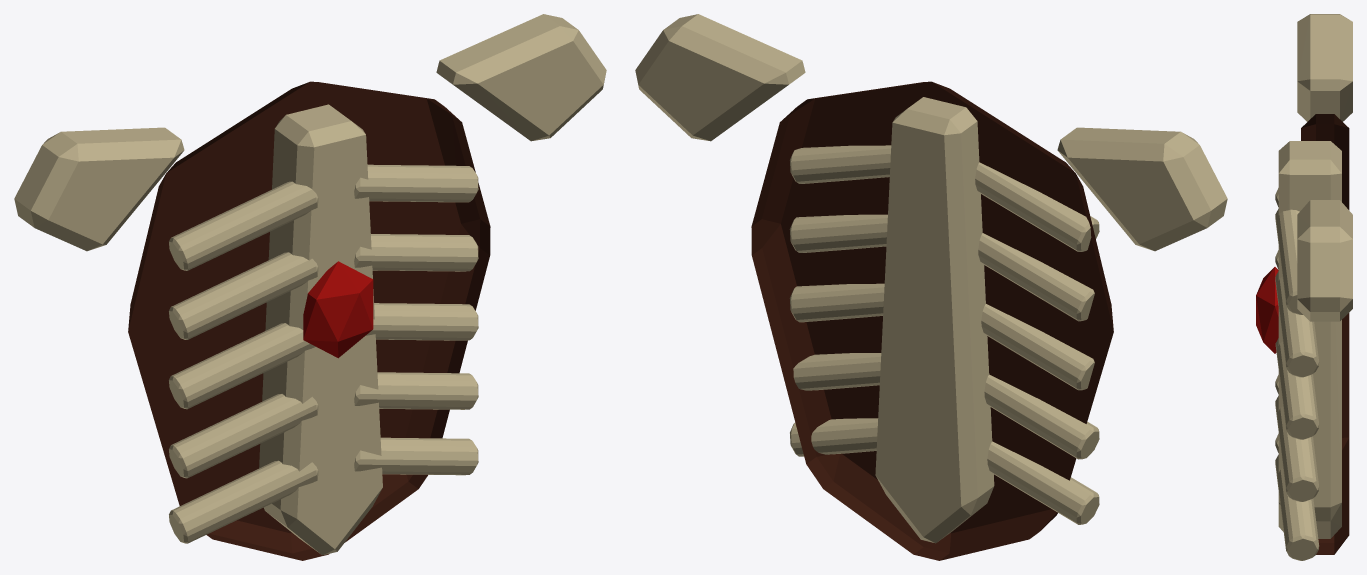
Rendered from bone_plate.obj.
The picture shows the model from 3 angles, left to right: view 1: azimuth 30°, elevation 25°; view 2: azimuth 150°, elevation 25°; view 3: azimuth 270°, elevation 25°; orthographic projection. The views are drawn at different scales.
Visible parts, largest first — view 1: BonePlate_Core.001_MAT_Leather, BonePlate_Sternum.001_MAT_Bone, BonePlate_Shoulder_-1.001_MAT_Bone, BonePlate_Shoulder_1.001_MAT_Bone, BonePlate_Rib_-1_0.001_MAT_Bone, BonePlate_Rib_-1_1.001_MAT_Bone, BonePlate_Rib_-1_3.001_MAT_Bone, BonePlate_Rib_-1_4.001_MAT_Bone, BonePlate_Rib_-1_2.001_MAT_Bone, BonePlate_Heart.001_MAT_Ruby, BonePlate_Rib_1_0.001_MAT_Bone, BonePlate_Rib_1_1.001_MAT_Bone (+3 smaller); view 2: BonePlate_Core.001_MAT_Leather, BonePlate_Sternum.001_MAT_Bone, BonePlate_Shoulder_-1.001_MAT_Bone, BonePlate_Shoulder_1.001_MAT_Bone, BonePlate_Rib_-1_0.001_MAT_Bone, BonePlate_Rib_-1_1.001_MAT_Bone, BonePlate_Rib_-1_3.001_MAT_Bone, BonePlate_Rib_-1_4.001_MAT_Bone, BonePlate_Rib_-1_2.001_MAT_Bone, BonePlate_Rib_1_0.001_MAT_Bone, BonePlate_Rib_1_1.001_MAT_Bone, BonePlate_Rib_1_2.001_MAT_Bone (+2 smaller); view 3: BonePlate_Sternum.001_MAT_Bone, BonePlate_Shoulder_1.001_MAT_Bone, BonePlate_Shoulder_-1.001_MAT_Bone, BonePlate_Core.001_MAT_Leather, BonePlate_Rib_1_3.001_MAT_Bone, BonePlate_Rib_1_2.001_MAT_Bone, BonePlate_Rib_1_1.001_MAT_Bone, BonePlate_Rib_1_4.001_MAT_Bone, BonePlate_Rib_1_0.001_MAT_Bone, BonePlate_Heart.001_MAT_Ruby.
Boxes of the visible parts, x1,y1,x2,y2 form: BonePlate_Core.001_MAT_Leather: (128,81,490,560); BonePlate_Sternum.001_MAT_Bone: (259,104,382,555); BonePlate_Shoulder_-1.001_MAT_Bone: (14,127,184,251); BonePlate_Shoulder_1.001_MAT_Bone: (436,14,606,141); BonePlate_Rib_-1_0.001_MAT_Bone: (169,181,318,270); BonePlate_Rib_-1_1.001_MAT_Bone: (169,252,318,339); BonePlate_Rib_-1_3.001_MAT_Bone: (169,394,318,478); BonePlate_Rib_-1_4.001_MAT_Bone: (169,460,318,543); BonePlate_Rib_-1_2.001_MAT_Bone: (169,323,315,409); BonePlate_Heart.001_MAT_Ruby: (303,261,373,358); BonePlate_Rib_1_0.001_MAT_Bone: (354,164,478,202); BonePlate_Rib_1_1.001_MAT_Bone: (354,234,478,271); BonePlate_Core.001_MAT_Leather: (751,81,1113,560); BonePlate_Sternum.001_MAT_Bone: (875,97,994,543); BonePlate_Shoulder_-1.001_MAT_Bone: (1057,127,1227,251); BonePlate_Shoulder_1.001_MAT_Bone: (635,14,805,141); BonePlate_Rib_-1_0.001_MAT_Bone: (975,162,1099,251); BonePlate_Rib_-1_1.001_MAT_Bone: (978,233,1094,321); BonePlate_Rib_-1_3.001_MAT_Bone: (984,374,1099,459); BonePlate_Rib_-1_4.001_MAT_Bone: (987,441,1099,524); BonePlate_Rib_-1_2.001_MAT_Bone: (981,304,1094,390); BonePlate_Rib_1_0.001_MAT_Bone: (790,145,891,183); BonePlate_Rib_1_1.001_MAT_Bone: (789,214,887,252); BonePlate_Rib_1_2.001_MAT_Bone: (789,283,884,322); BonePlate_Sternum.001_MAT_Bone: (1278,141,1341,538); BonePlate_Shoulder_1.001_MAT_Bone: (1297,200,1352,321); BonePlate_Shoulder_-1.001_MAT_Bone: (1297,14,1352,121); BonePlate_Core.001_MAT_Leather: (1301,114,1349,554); BonePlate_Rib_1_3.001_MAT_Bone: (1275,396,1319,501); BonePlate_Rib_1_2.001_MAT_Bone: (1275,338,1319,439); BonePlate_Rib_1_1.001_MAT_Bone: (1275,271,1319,377); BonePlate_Rib_1_4.001_MAT_Bone: (1275,455,1319,560); BonePlate_Rib_1_0.001_MAT_Bone: (1275,209,1302,314); BonePlate_Heart.001_MAT_Ruby: (1256,267,1278,353).
Bounding box in the file's own units: 3.23 × 2.54 × 0.5221.
